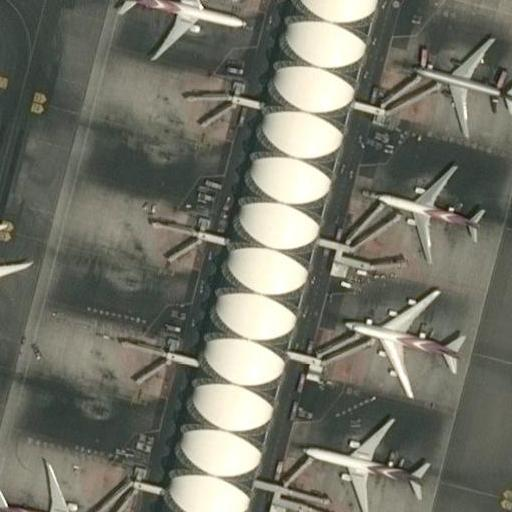Aircraft: (338, 281, 462, 395), (302, 412, 438, 512), (375, 163, 481, 265), (413, 29, 512, 134), (119, 0, 245, 61), (0, 455, 116, 512), (0, 201, 31, 310)
